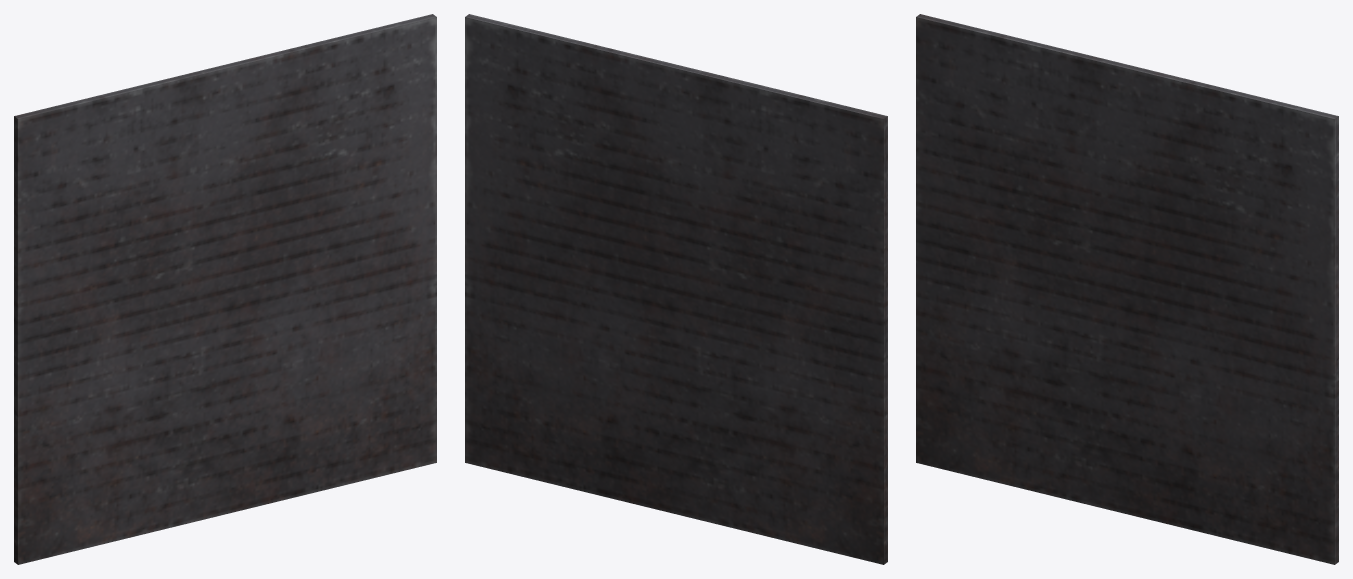
Rendered from RollupDoor1_Leaf.glb.
3 views of the same model, side by side, from view 1: azimuth 30°, elevation 25°; view 2: azimuth 150°, elevation 25°; view 3: azimuth 330°, elevation 25° (orthographic).
Parts seen in each view (by area): view 1: Rollup_Door_1_Door; view 2: Rollup_Door_1_Door; view 3: Rollup_Door_1_Door.
Boxes of the visible parts, x1=… form: Rollup_Door_1_Door: x1=14, y1=14, x2=436, y2=564; Rollup_Door_1_Door: x1=465, y1=14, x2=887, y2=564; Rollup_Door_1_Door: x1=916, y1=14, x2=1338, y2=564.
Size of the model in its own units: 2.9 by 2.95 by 0.0493.
Materials: 1 (1 with a texture image).
